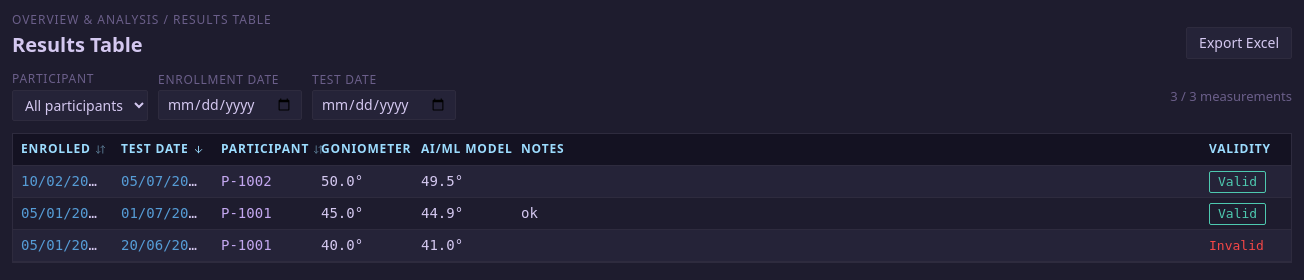
Scenario: ResultsDisplay › shows Clear filters only once a filter is active, and it resets everything
This screenshot has width=1304, height=280.
Expected: the text "Clear filters" is not shown
Select "P-1002" in the dropdown named "filter by participant" at (80, 105), box [12, 90, 148, 121]
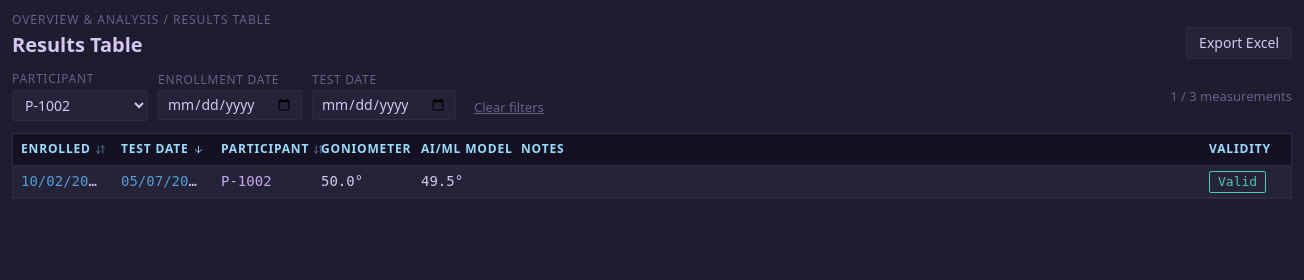
Now the button "Clear filters" is shown
Click the button "Clear filters" at (509, 108), box [466, 94, 552, 121]
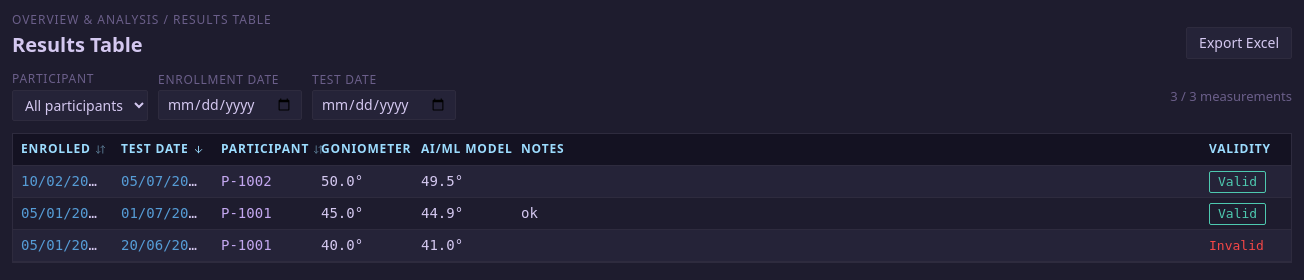
Now the button "Clear filters" is gone
Now the text "3 / 3 measurements" is shown, box [1170, 87, 1292, 105]
